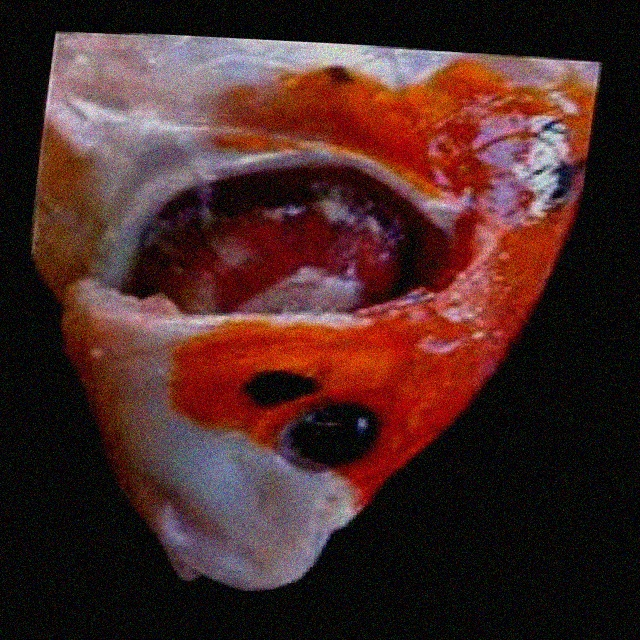Gill Disease: (50, 45, 575, 592)
